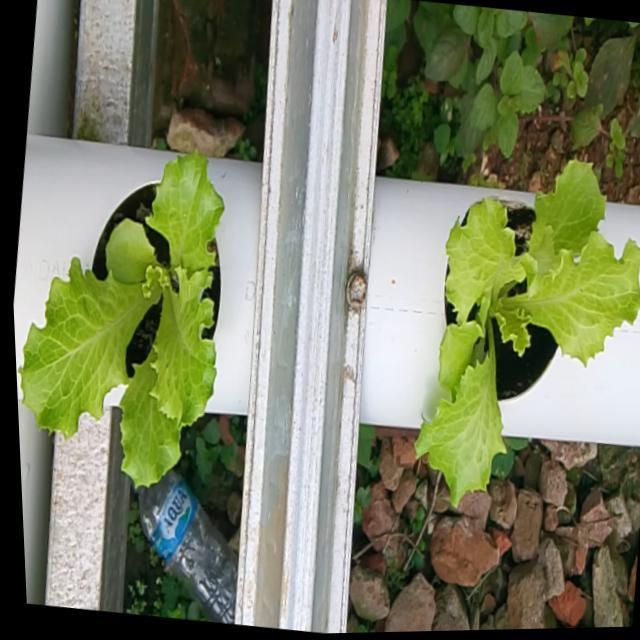Baby: (408, 159, 634, 502), (16, 150, 219, 486)
